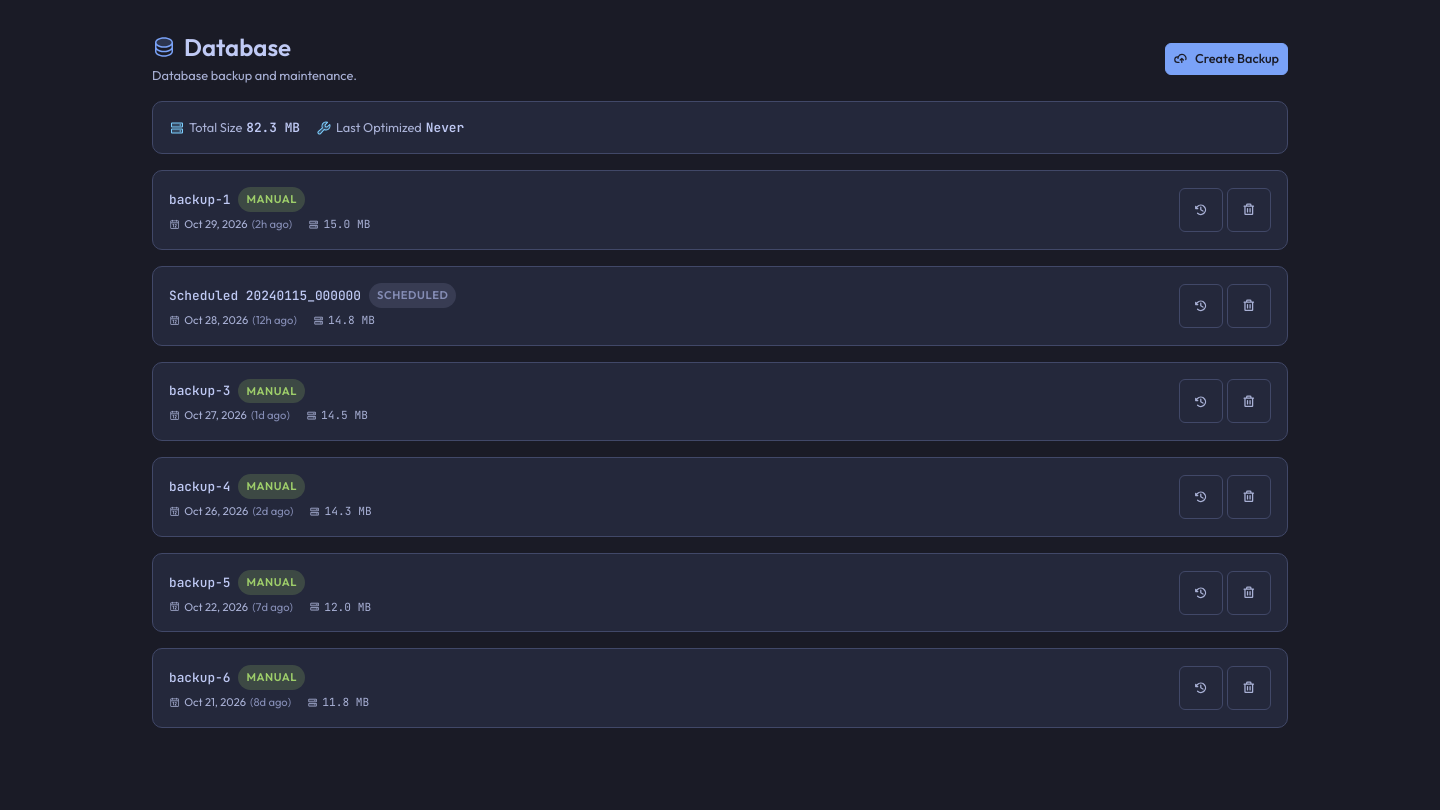
it: BackupsPage actions › opens delete dialog when delete button is clicked
Click the button named "delete backup-1". click: coordinates (1249, 210)
box: [1227,188,1271,232]
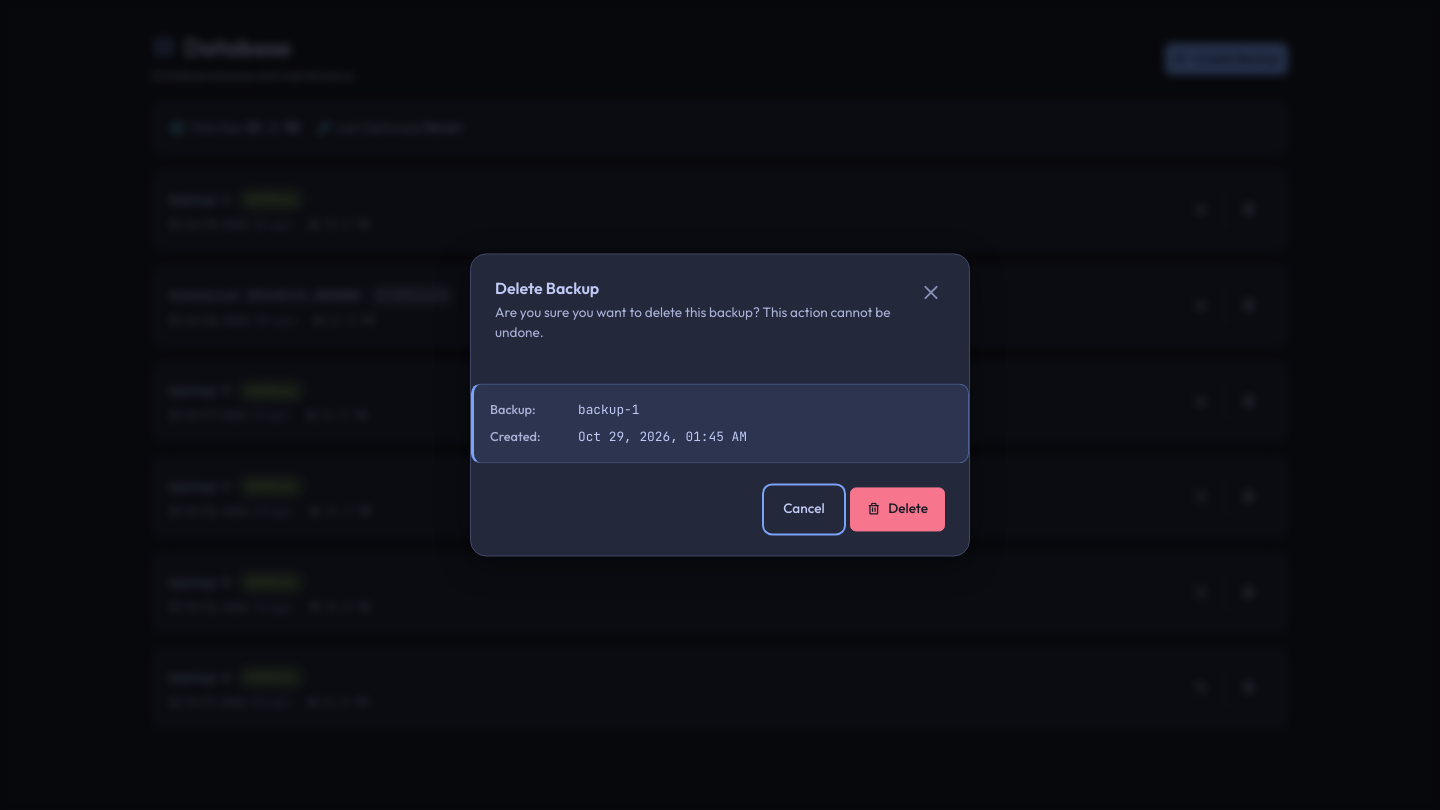
Expected: the dialog is shown, [470,253,970,557]
Expected: the heading "Delete Backup" is shown, [495,278,599,298]
